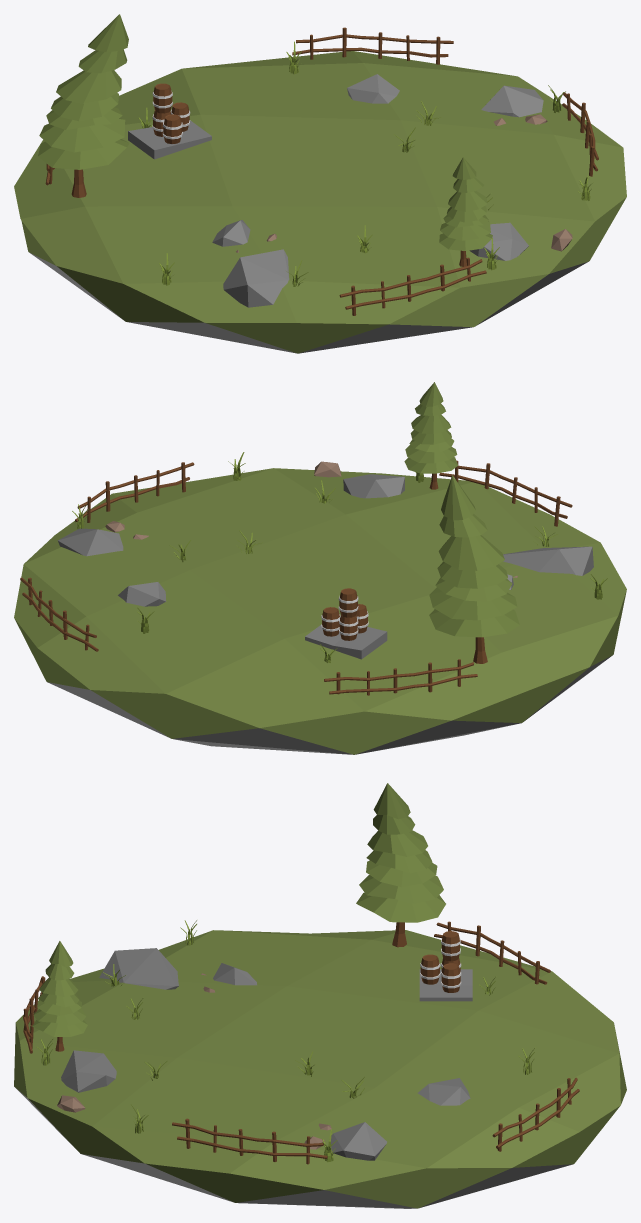
Rendered from terrain.glb.
The picture shows the model from 3 angles, top to bottom: view 1: azimuth 30°, elevation 25°; view 2: azimuth 150°, elevation 25°; view 3: azimuth 270°, elevation 25°; orthographic projection. The views are drawn at different scales.
Visible parts, largest first — view 1: Ground, Tree1, Tree2, Rock2, Fence, Fence.001, stone floor, Rock3, Rock1, Rock4, Rock5, Barrel3 (+1 smaller); view 2: Ground, Tree1, Tree2, Fence, Fence.001, Rock2, stone floor, Rock3, Rock1, Rock4, Barrel3; view 3: Ground, Tree1, Tree2, Fence.001, Rock2, Fence, Rock1, Rock3, stone floor, Rock4, Rock5.
Part boxes in pixels (left/top/right/bottom): Ground: left=14, top=51, right=626, bottom=353; Tree1: left=38, top=14, right=129, bottom=197; Tree2: left=439, top=157, right=492, bottom=266; Rock2: left=223, top=249, right=289, bottom=307; Fence: left=339, top=92, right=598, bottom=315; Fence.001: left=45, top=27, right=453, bottom=185; stone floor: left=128, top=120, right=211, bottom=159; Rock3: left=481, top=85, right=543, bottom=117; Rock1: left=469, top=222, right=528, bottom=260; Rock4: left=347, top=74, right=399, bottom=103; Rock5: left=212, top=220, right=250, bottom=246; Barrel3: left=152, top=83, right=172, bottom=113; Ground: left=14, top=468, right=626, bottom=754; Tree1: left=429, top=475, right=519, bottom=663; Tree2: left=404, top=382, right=457, bottom=489; Fence: left=75, top=460, right=572, bottom=526; Fence.001: left=20, top=577, right=477, bottom=695; Rock2: left=503, top=546, right=593, bottom=575; stone floor: left=305, top=624, right=387, bottom=659; Rock3: left=57, top=528, right=123, bottom=556; Rock1: left=343, top=474, right=404, bottom=498; Rock4: left=118, top=582, right=166, bottom=606; Barrel3: left=338, top=588, right=358, bottom=617; Ground: left=14, top=930, right=626, bottom=1208; Tree1: left=356, top=783, right=445, bottom=947; Tree2: left=32, top=941, right=87, bottom=1051; Fence.001: left=434, top=921, right=579, bottom=1151; Rock2: left=99, top=948, right=178, bottom=989; Fence: left=23, top=976, right=327, bottom=1164; Rock1: left=61, top=1050, right=116, bottom=1092; Rock3: left=329, top=1122, right=386, bottom=1160; stone floor: left=419, top=969, right=472, bottom=1001; Rock4: left=417, top=1078, right=470, bottom=1105; Rock5: left=213, top=963, right=256, bottom=985.
Size of the model in its own units: 19.25 by 9.14 by 18.83.
